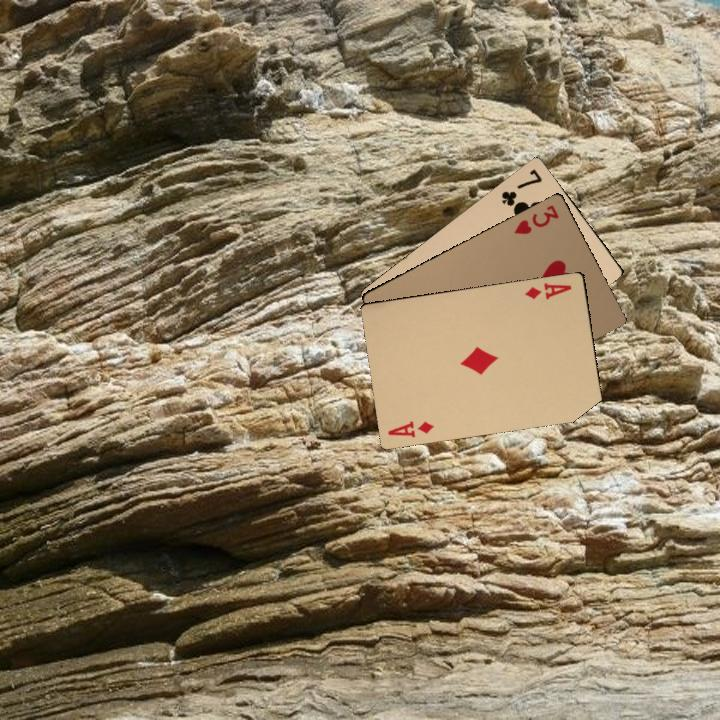3h: (510, 200, 561, 237)
7c: (497, 165, 545, 209)
Ad: (384, 417, 436, 440), (523, 279, 574, 302)
